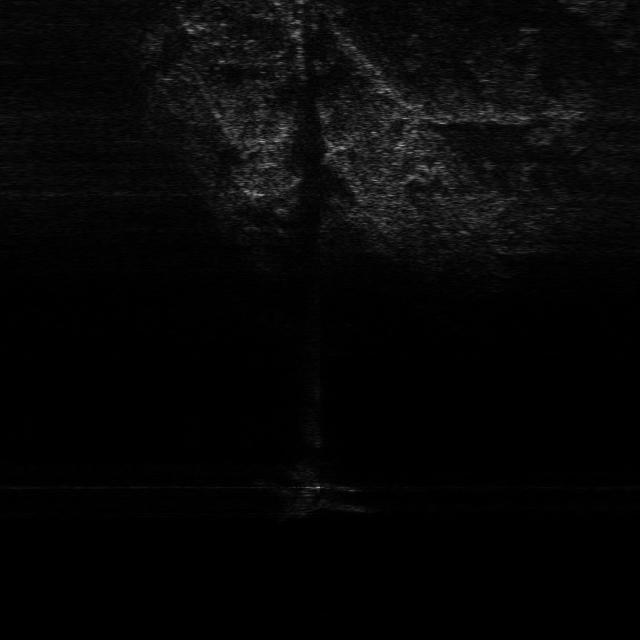plane: (253, 463, 371, 518)
